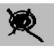not correct: (4, 5, 46, 44)
